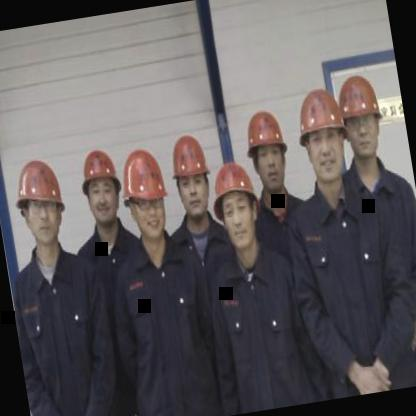helmet: (290, 80, 354, 186), (9, 150, 74, 252), (204, 150, 266, 250), (114, 145, 174, 244), (332, 66, 391, 164), (164, 124, 218, 226), (238, 102, 296, 195), (74, 139, 128, 229)
